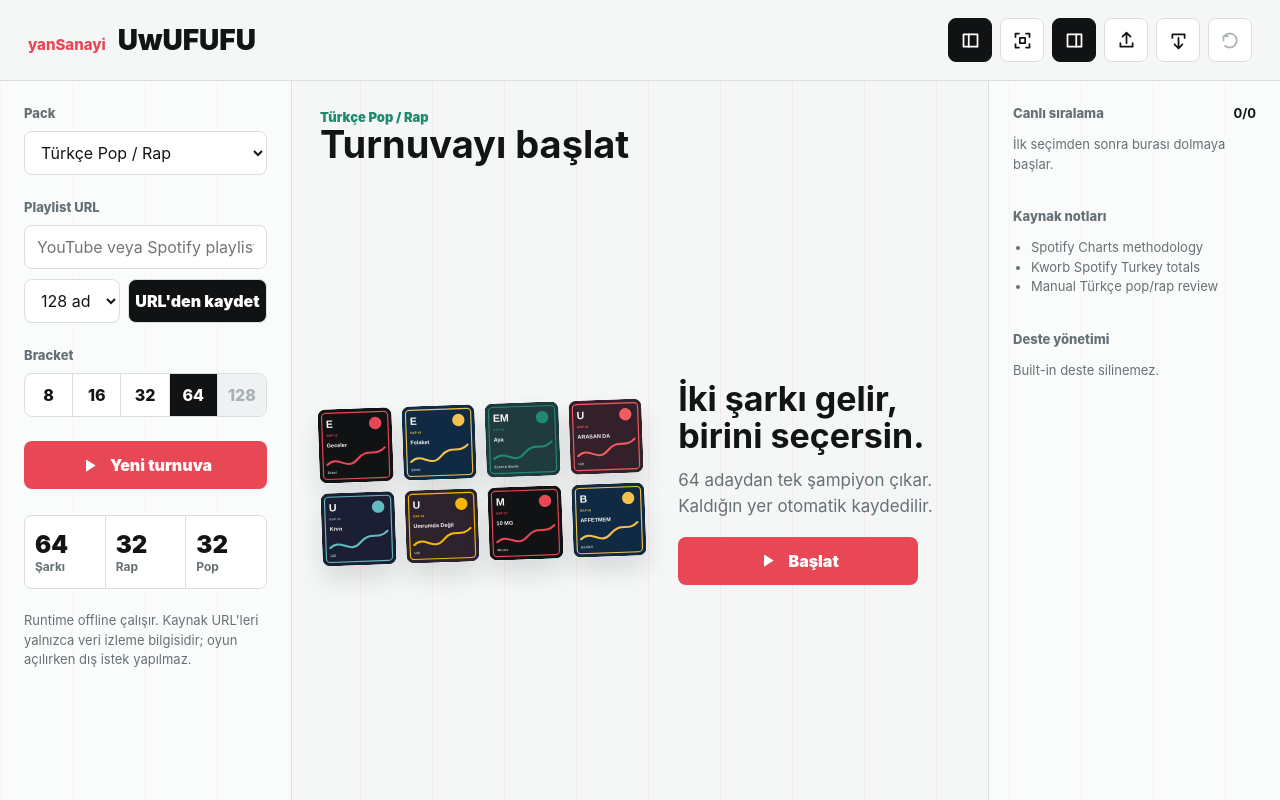
it: App › focus mode hides both side panels
The width and height of the screenshot is (1280, 800).
What coordinates should you click on to do the following:
click the button named "Odak modunu aç"
I would click on:
 (1022, 40)
Its box is [1000, 18, 1044, 62].
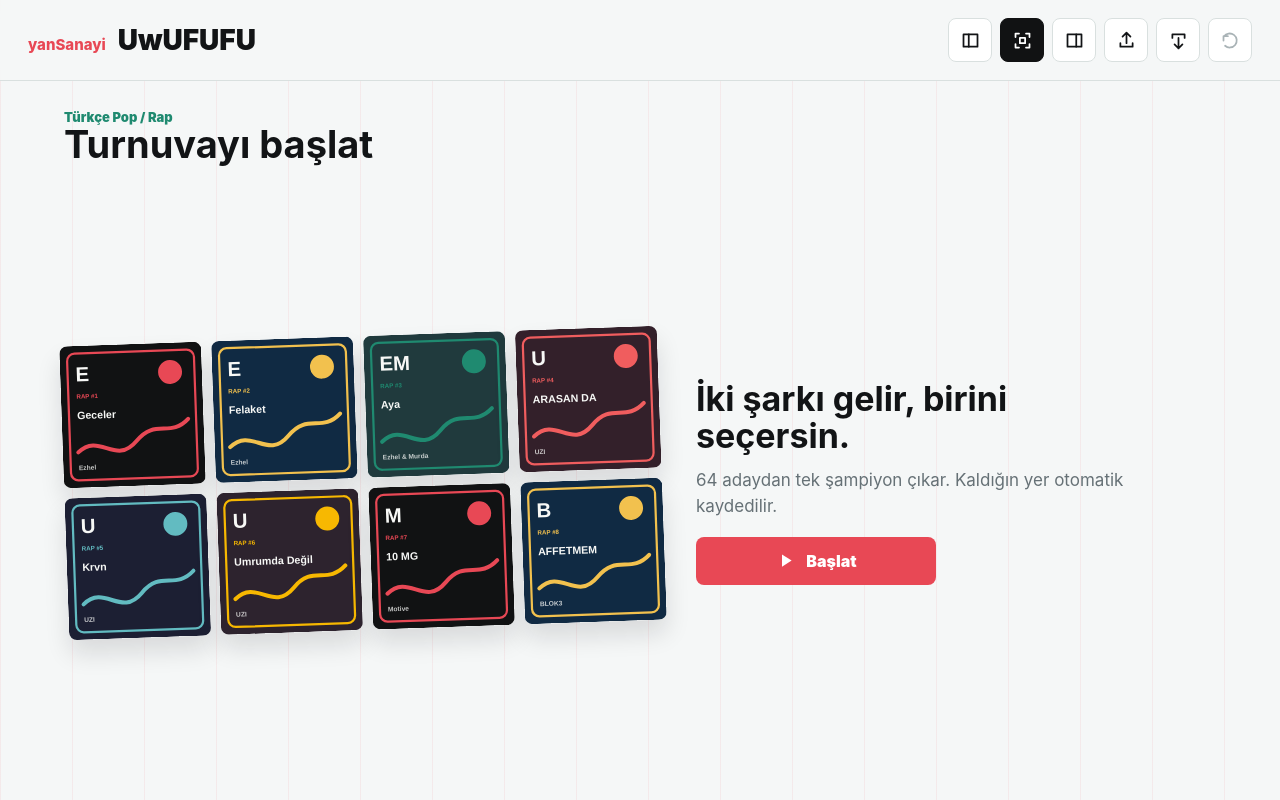
Check: the text "sıralama" is gone
What coordinates should you click on to do the following:
click the button named "Odak modunu kapat"
I would click on:
 (1022, 40)
Its box is [1000, 18, 1044, 62].
(page scrolled)
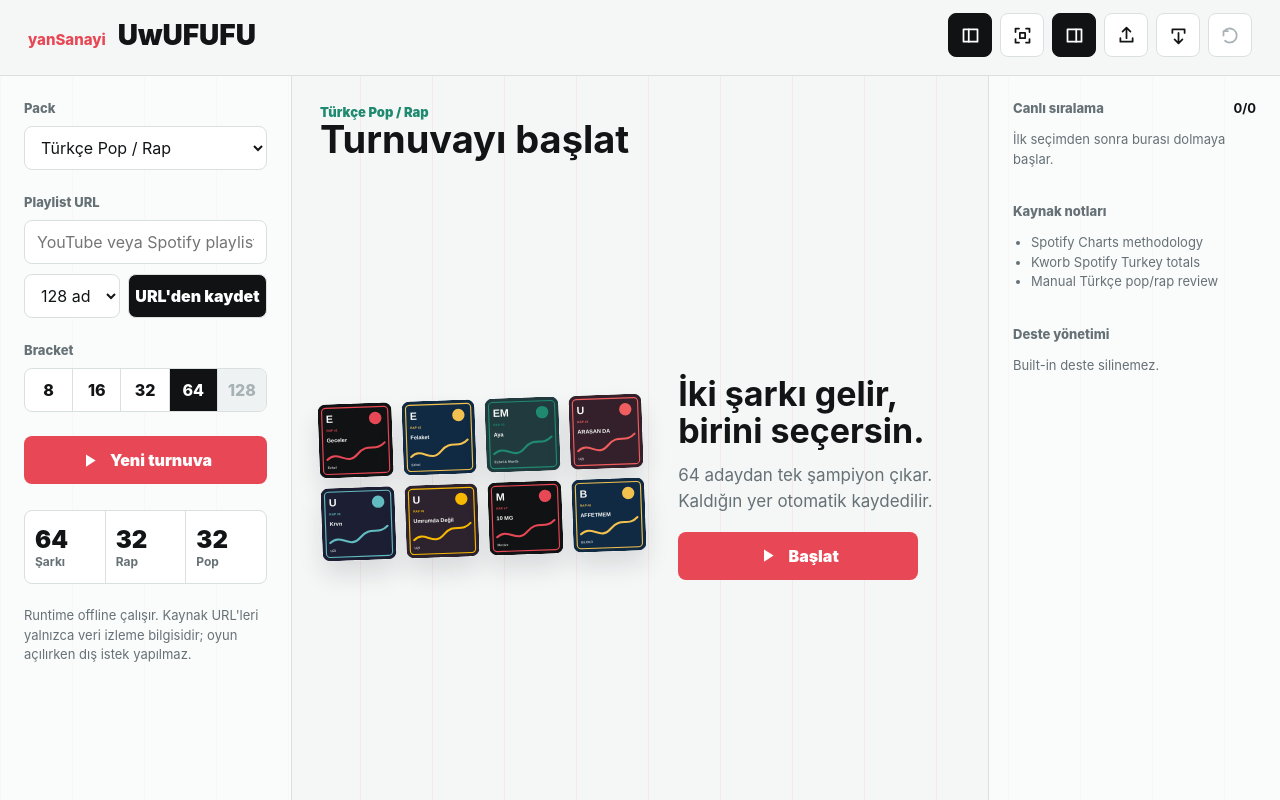
Check: the element named "Oyun ayarları" is shown, box [0, 76, 292, 799]
Check: the element "sıralama" is shown, box [988, 76, 1279, 799]
